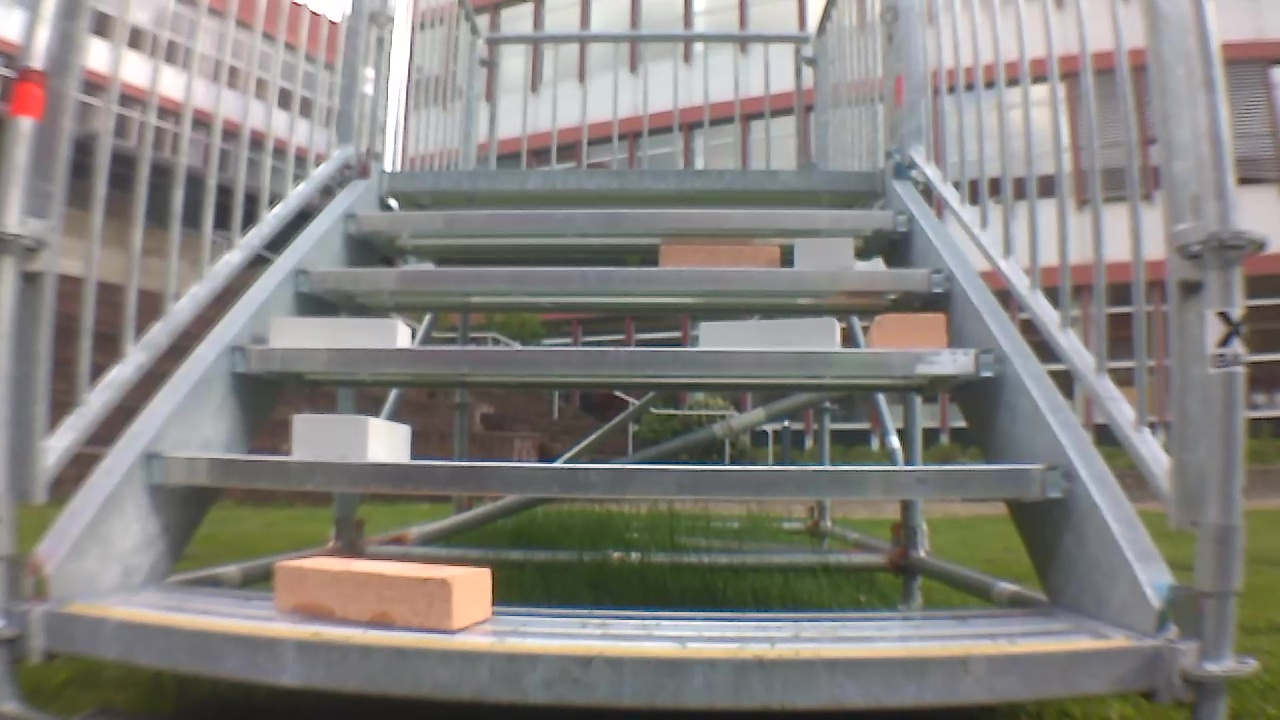brick: (274, 558, 491, 630), (294, 414, 410, 461), (700, 317, 841, 349), (271, 316, 409, 348), (659, 244, 778, 268), (871, 313, 946, 348), (794, 238, 852, 269)
edge: (48, 613, 1161, 706), (149, 454, 1067, 497), (229, 346, 1005, 376), (297, 268, 949, 290), (344, 210, 911, 231), (382, 169, 880, 190)
stairs: (7, 4, 1265, 720)
steps: (45, 163, 1176, 713)
